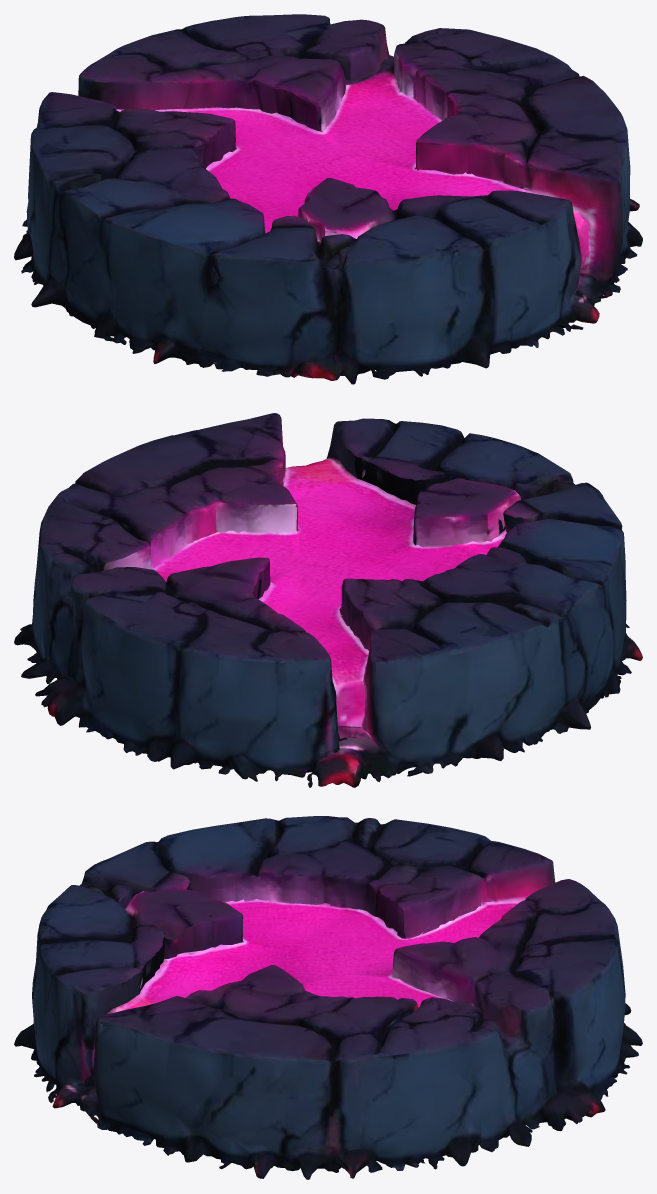
Rendered from world-root-basin-generated-2026-04-19T16-38-34-252Z.low.glb.
The picture shows the model from 3 angles, top to bottom: view 1: azimuth 30°, elevation 25°; view 2: azimuth 150°, elevation 25°; view 3: azimuth 270°, elevation 25°; orthographic projection. The views are drawn at different scales.
Visible parts, largest first — view 1: temp_mesh.ply; view 2: temp_mesh.ply; view 3: temp_mesh.ply.
Boxes of the visible parts, x1=… form: temp_mesh.ply: x1=14, y1=14, x2=642, y2=384; temp_mesh.ply: x1=14, y1=413, x2=642, y2=787; temp_mesh.ply: x1=14, y1=816, x2=642, y2=1179.
Size of the model in its own units: 1.97 by 0.4118 by 1.97.
Materials: 1 (1 with a texture image).
